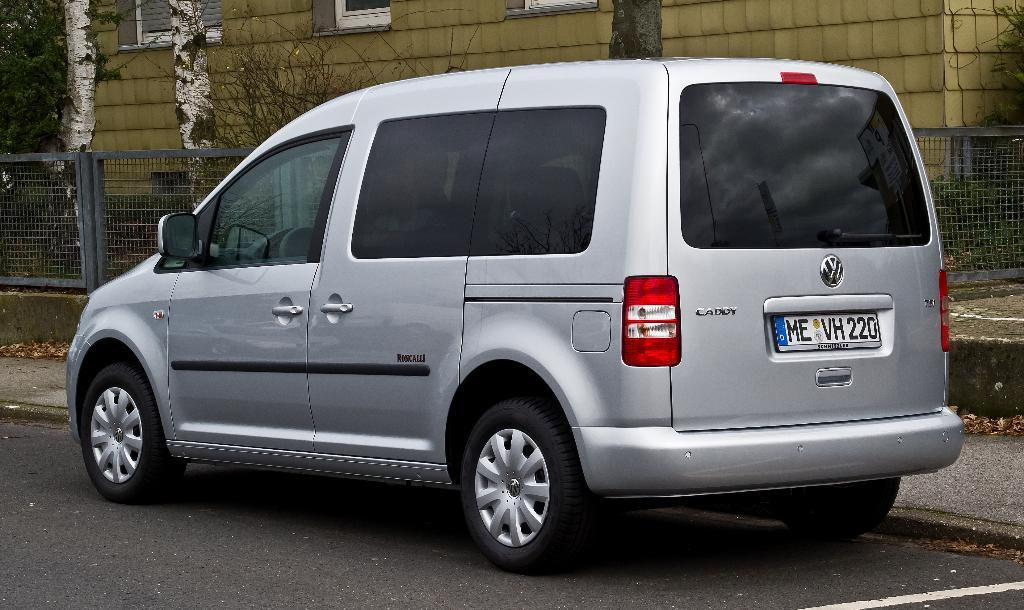vehicle: (67, 57, 962, 572)
